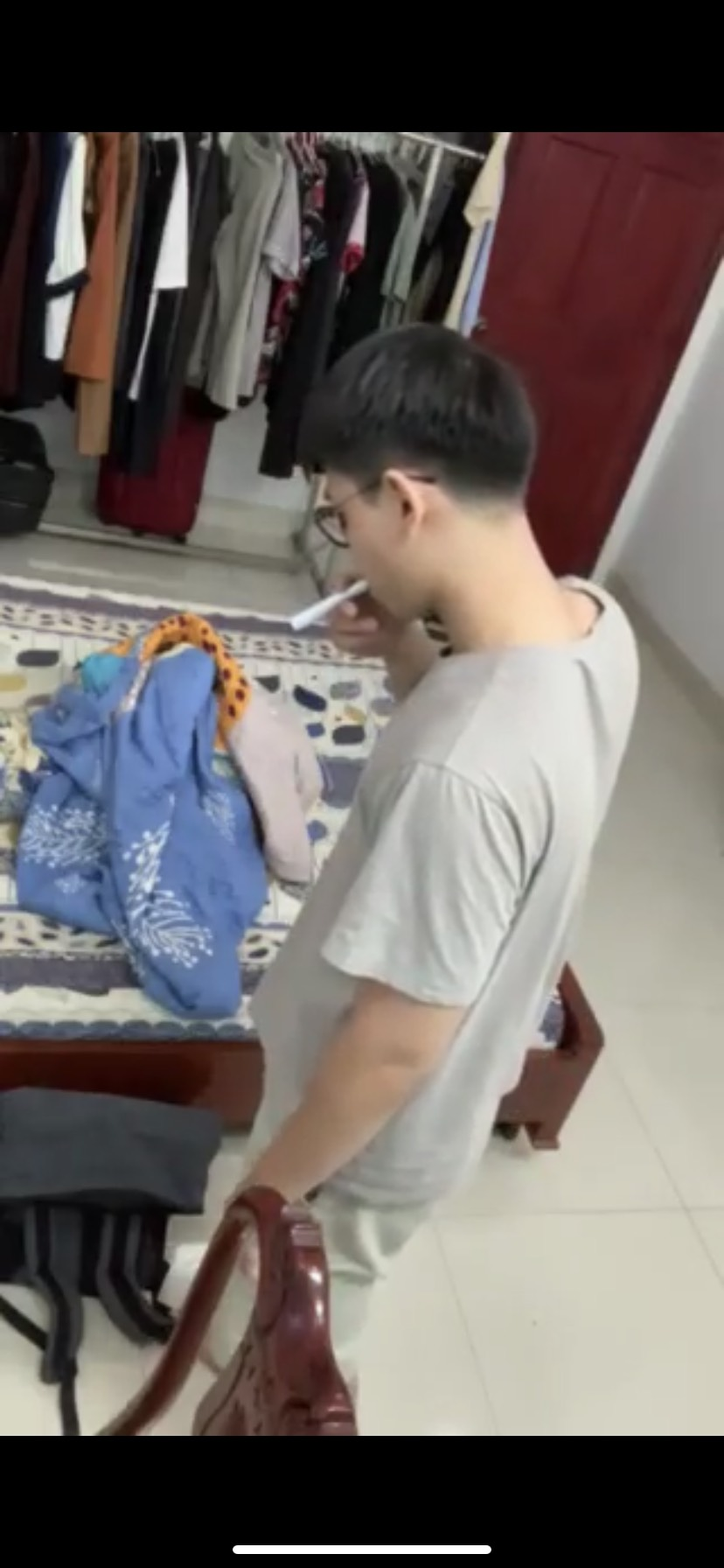cigarette: (295, 577, 386, 633)
person: (172, 318, 684, 1382)
